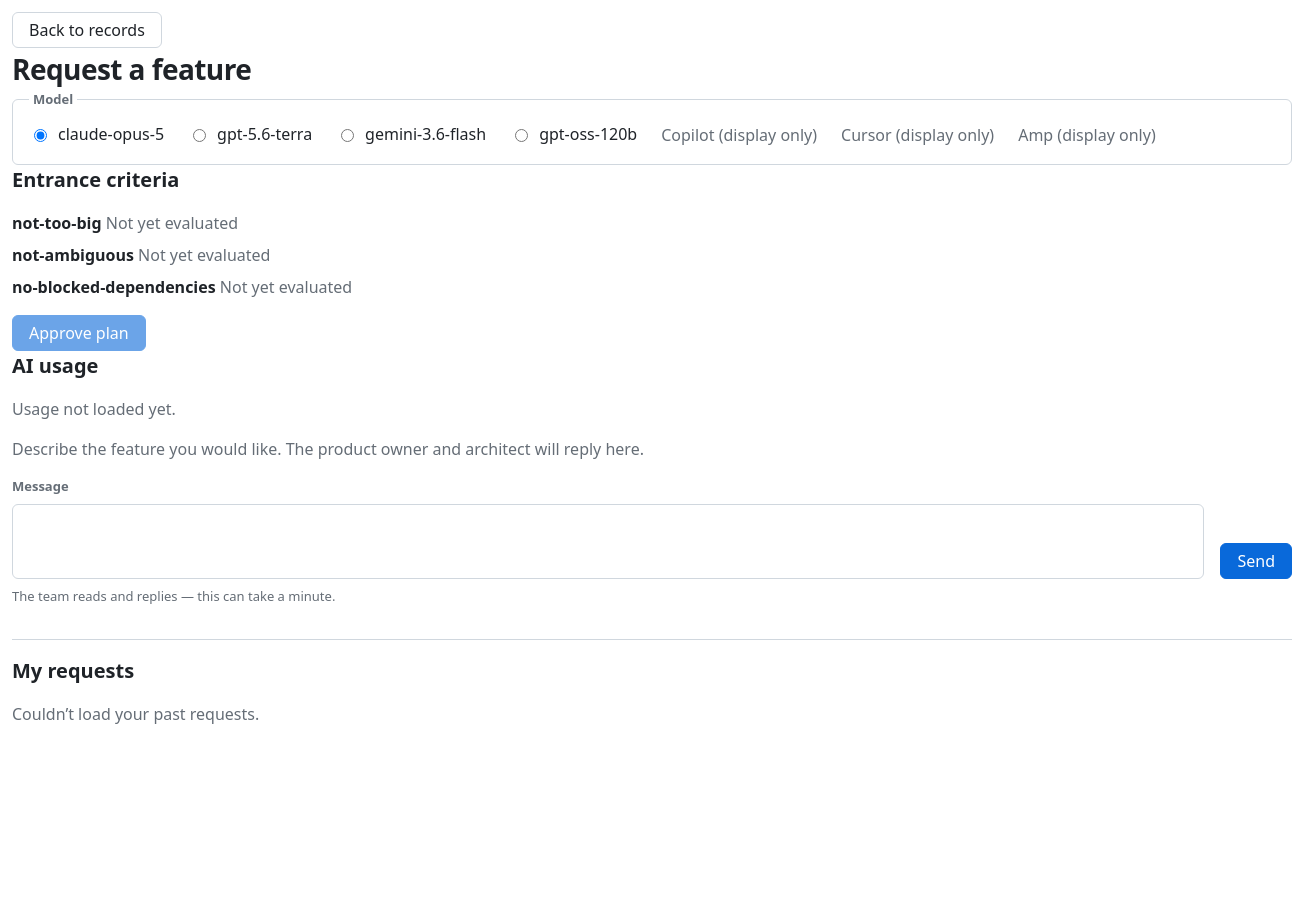
Test: DAN-54 entrance-criteria checklist › updates after every exchange
This screenshot has width=1304, height=912.
Type "Please add CSV export" into the text box labelled "Message" at (608, 542), box [12,504,1204,579]
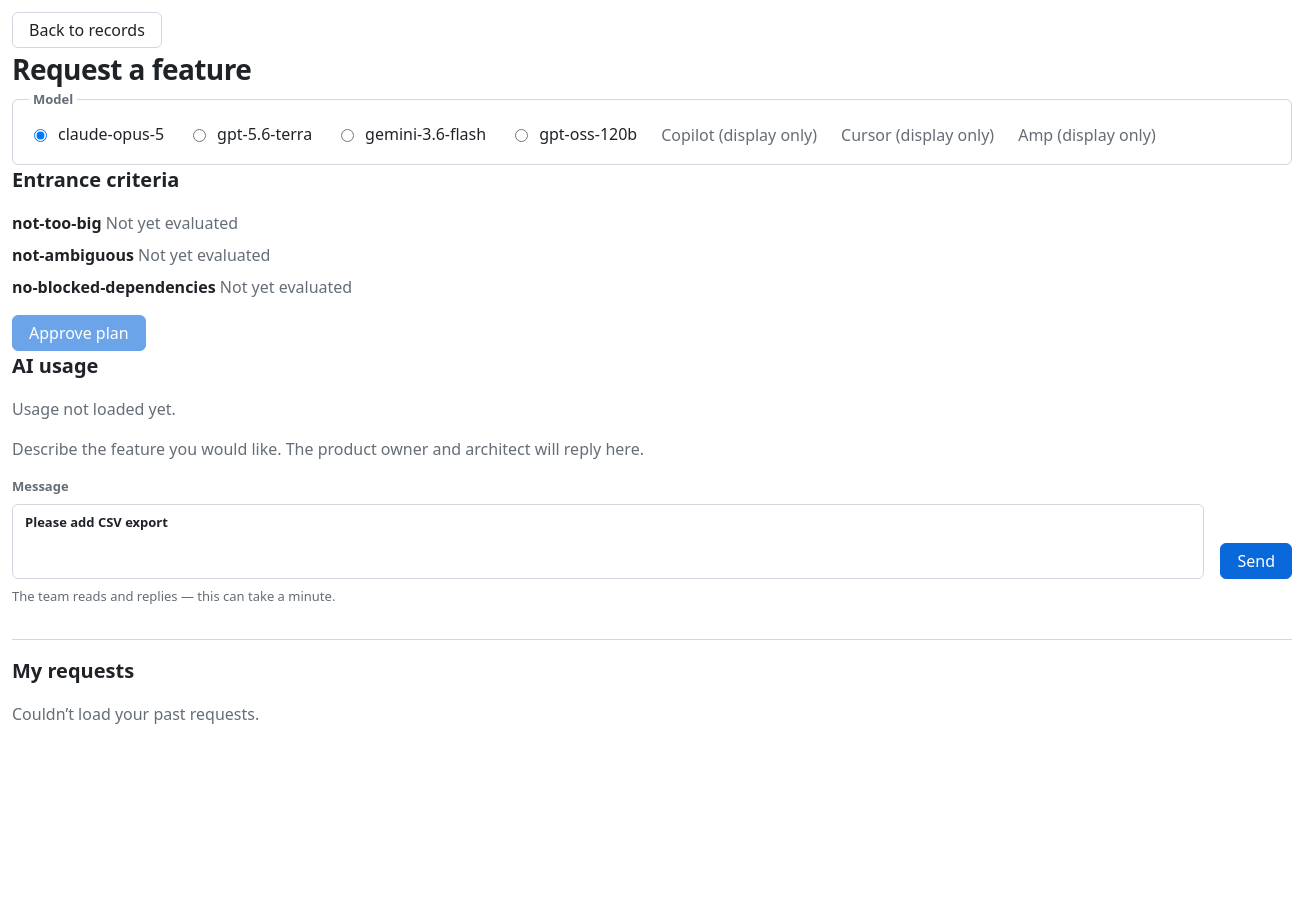
Click the button "Send" at (1256, 561), box [1220,543,1292,579]
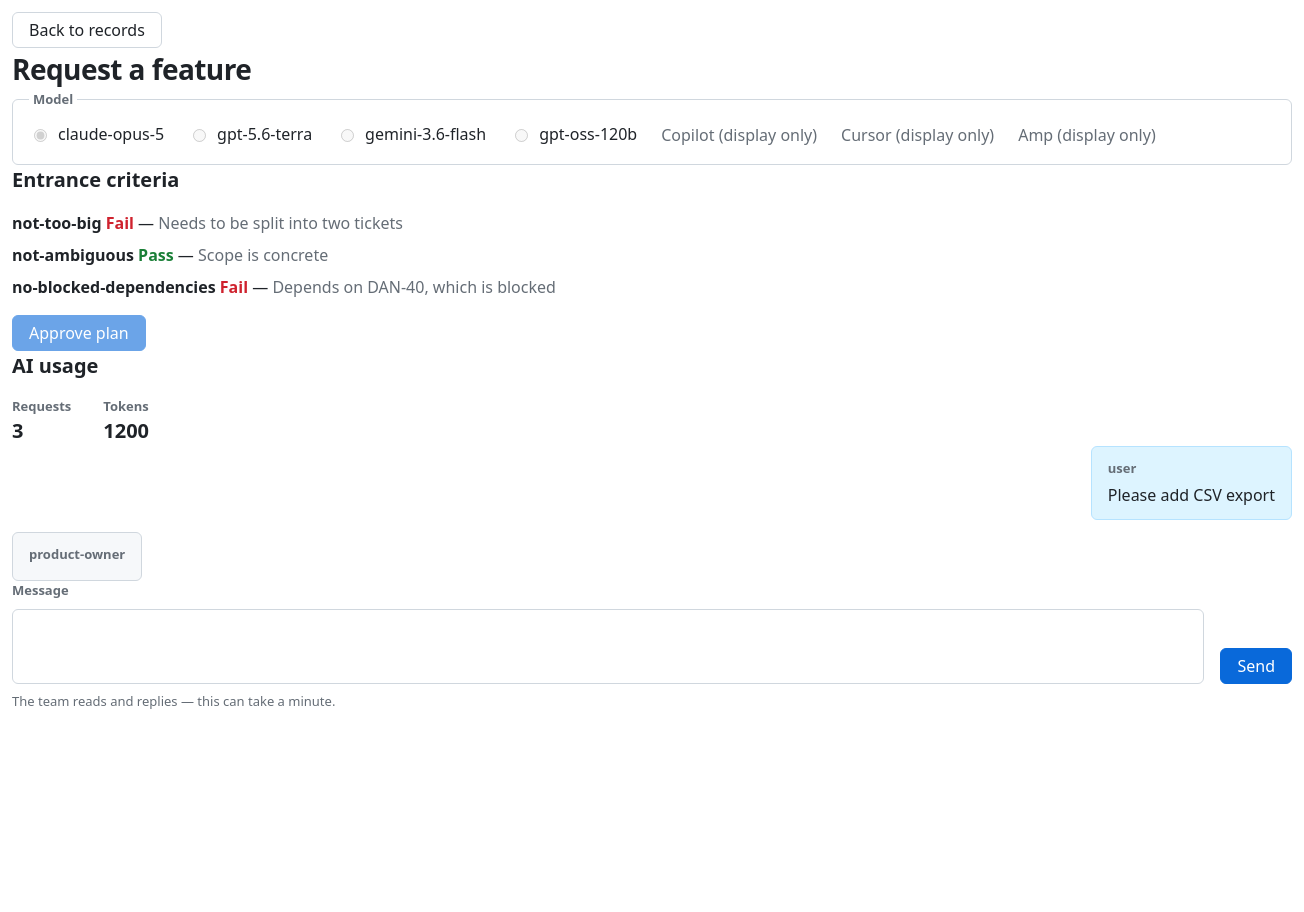
Check: the list named "Conversation" is shown, box [12,446,1292,581]
Check: the element "Entrance criteria" shows "Needs to be split into two tickets", box [158,212,403,234]
Type "Split it, then" into the text box labelled "Message" at (608, 646), box [12,608,1204,684]
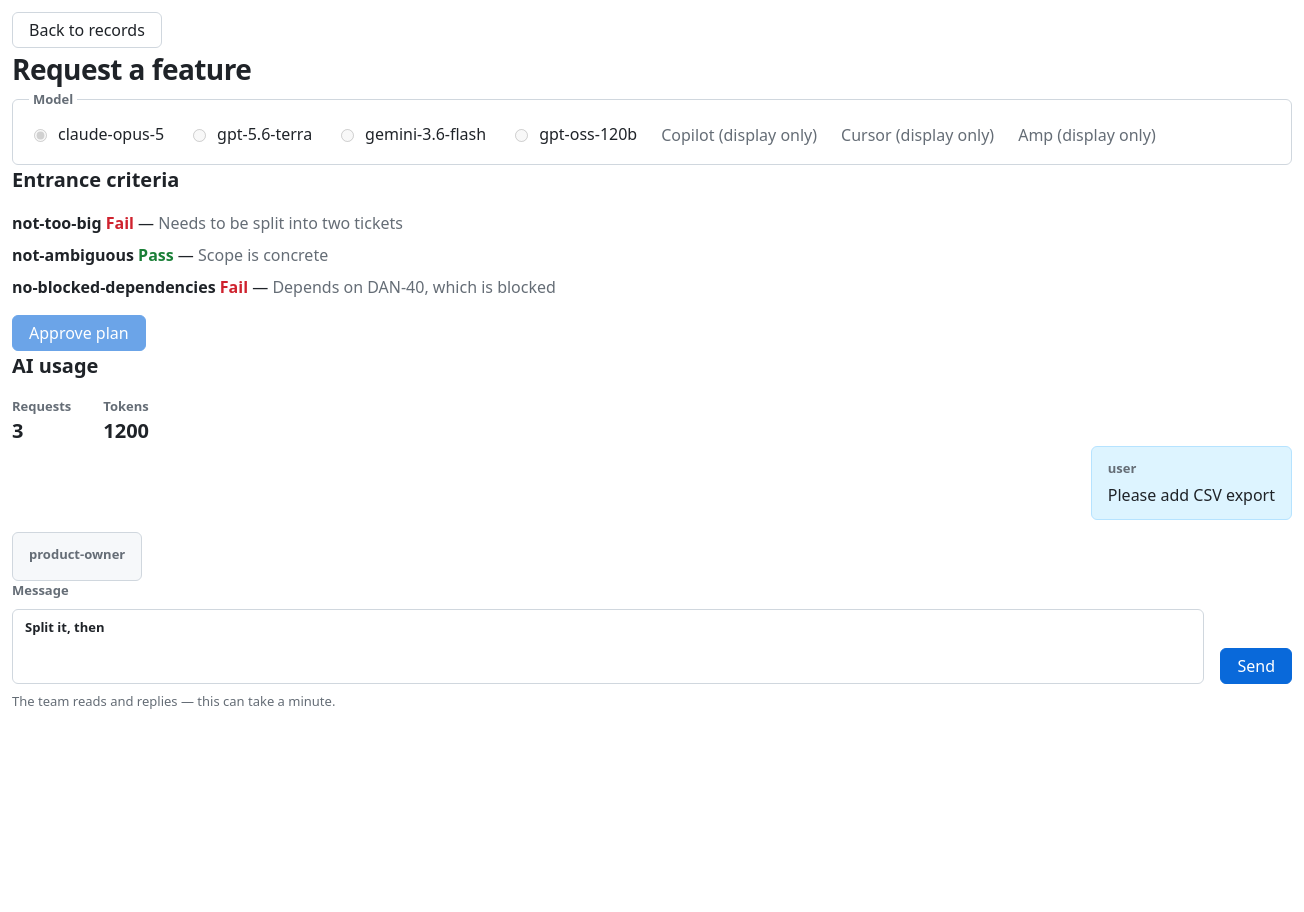
Click the button "Send" at (1256, 666), box [1220,648,1292,684]
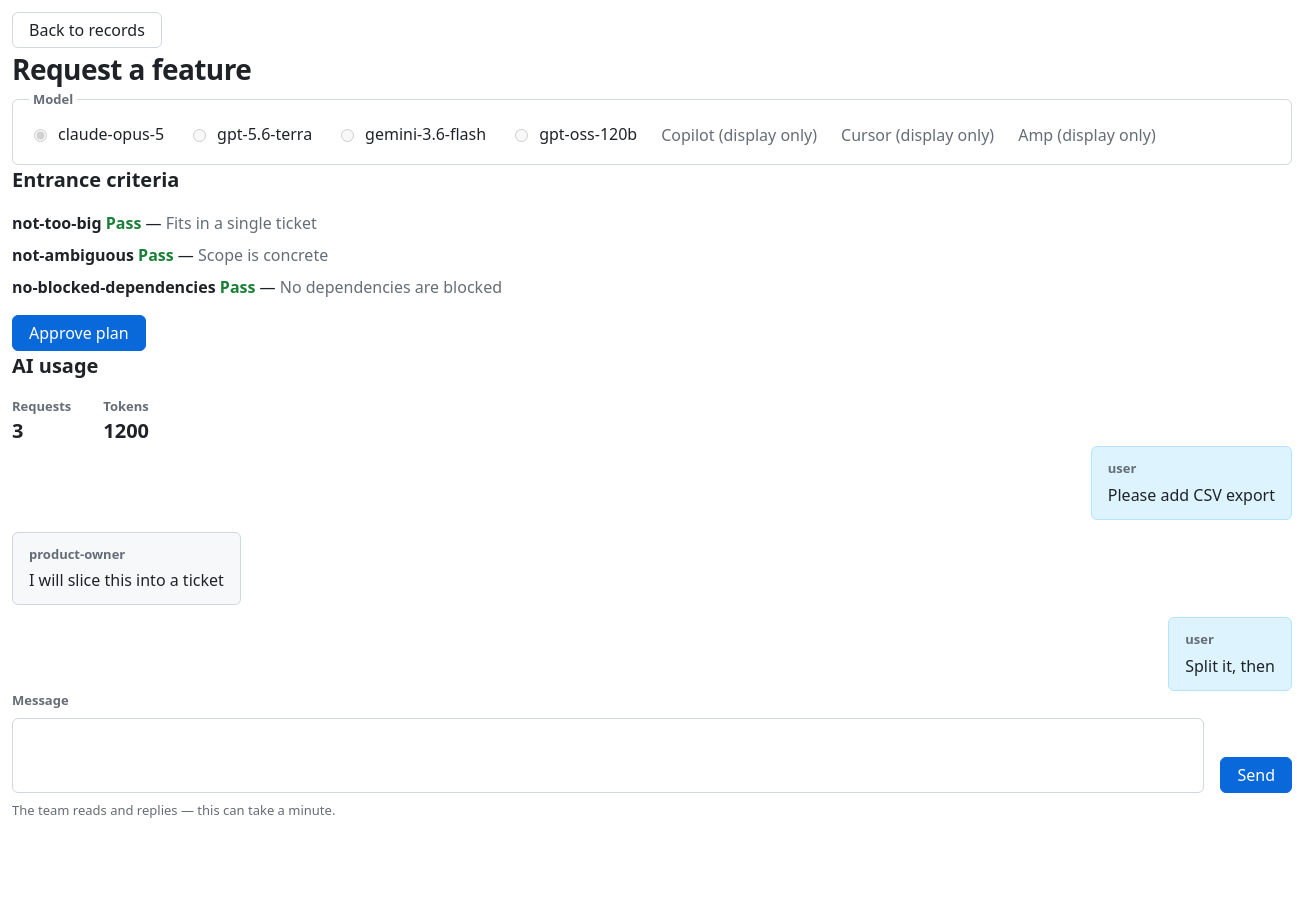
Check: the element "Entrance criteria" shows "Fits in a single ticket", box [166,212,317,234]
Check: the element "Entrance criteria" no longer shows "Needs to be split into two tickets", box [12,166,502,350]
Check: the list item "not-too-big Pass — Fits in a single ticket" is shown, box [12,212,317,234]
